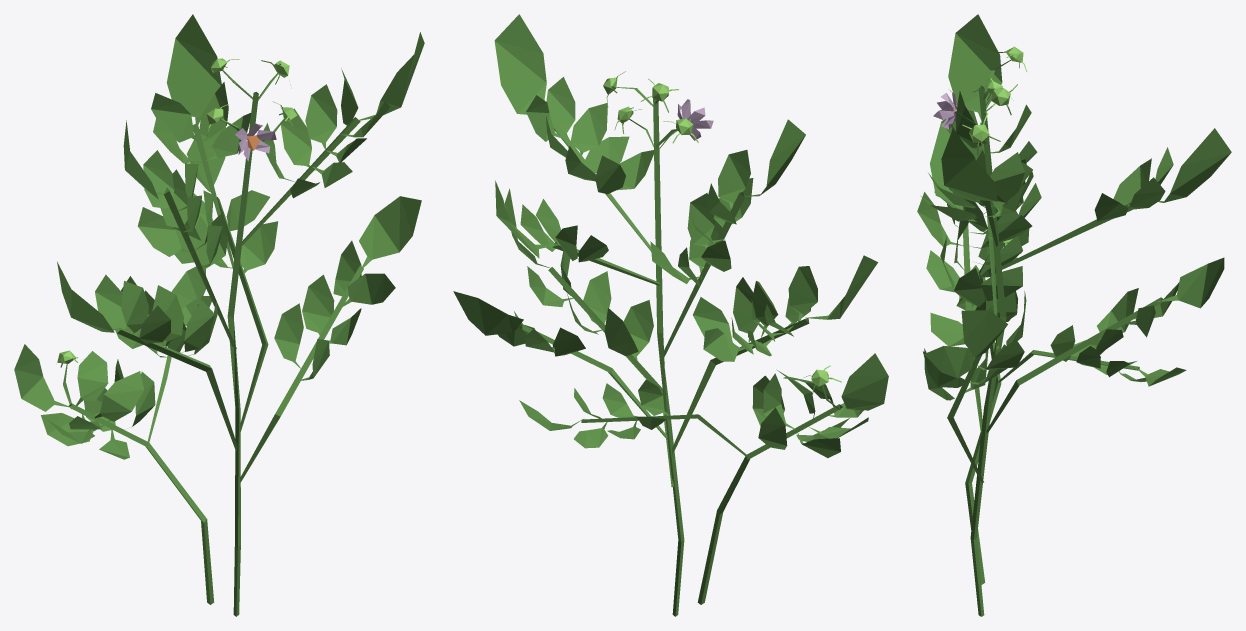
The model's file is Potato_4.fbx.
3 views of the same model, side by side, from view 1: azimuth 30°, elevation 25°; view 2: azimuth 150°, elevation 25°; view 3: azimuth 270°, elevation 25° (orthographic). The views are drawn at different scales.
Visible parts, largest first — view 1: Potato_4; view 2: Potato_4; view 3: Potato_4.
Part boxes in pixels (x1,y1,x2,y2): Potato_4: (14, 14, 424, 616); Potato_4: (453, 14, 888, 616); Potato_4: (917, 14, 1231, 616).
Size of the model in its own units: 113 by 148 by 73.69.
